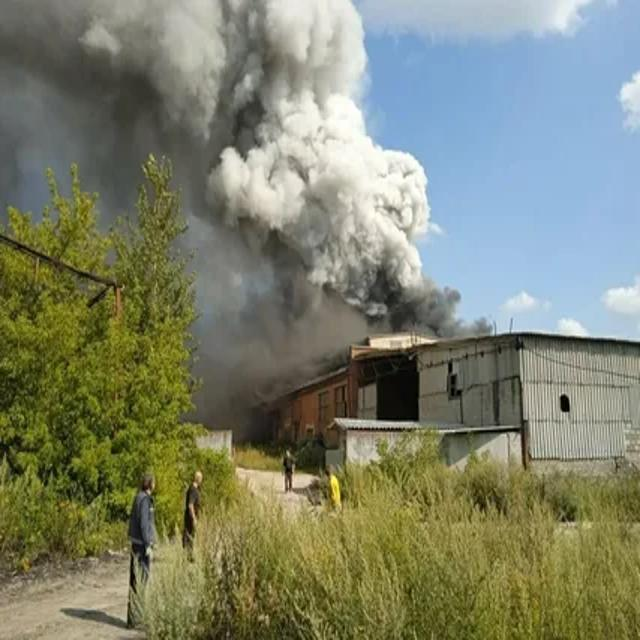Smoke: (0, 0, 494, 339)
